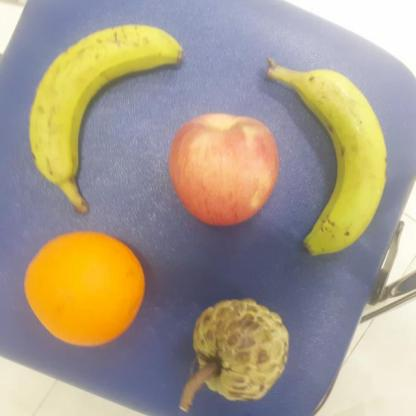annona: (192, 297, 292, 406)
apple: (166, 112, 283, 228)
banana: (30, 24, 184, 213), (266, 61, 390, 257)
orange: (22, 230, 146, 350)
